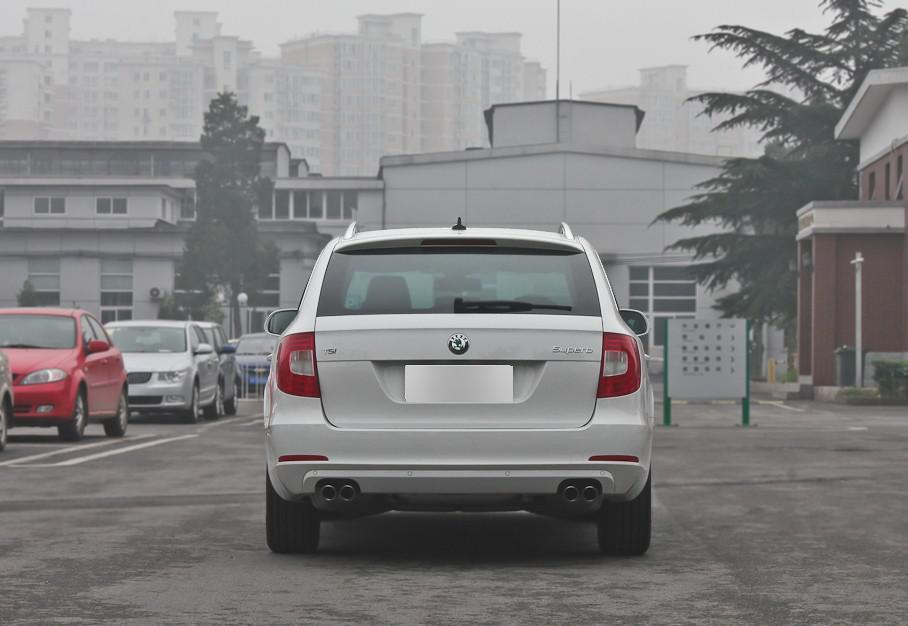Wagon: (261, 219, 653, 556)
